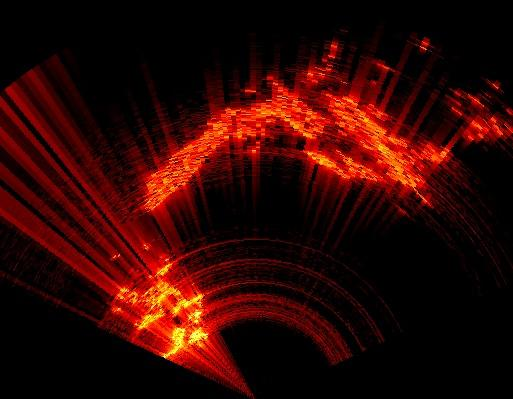shipwreck: (145, 81, 376, 210), (328, 97, 405, 176), (135, 278, 207, 357), (422, 146, 445, 159)
